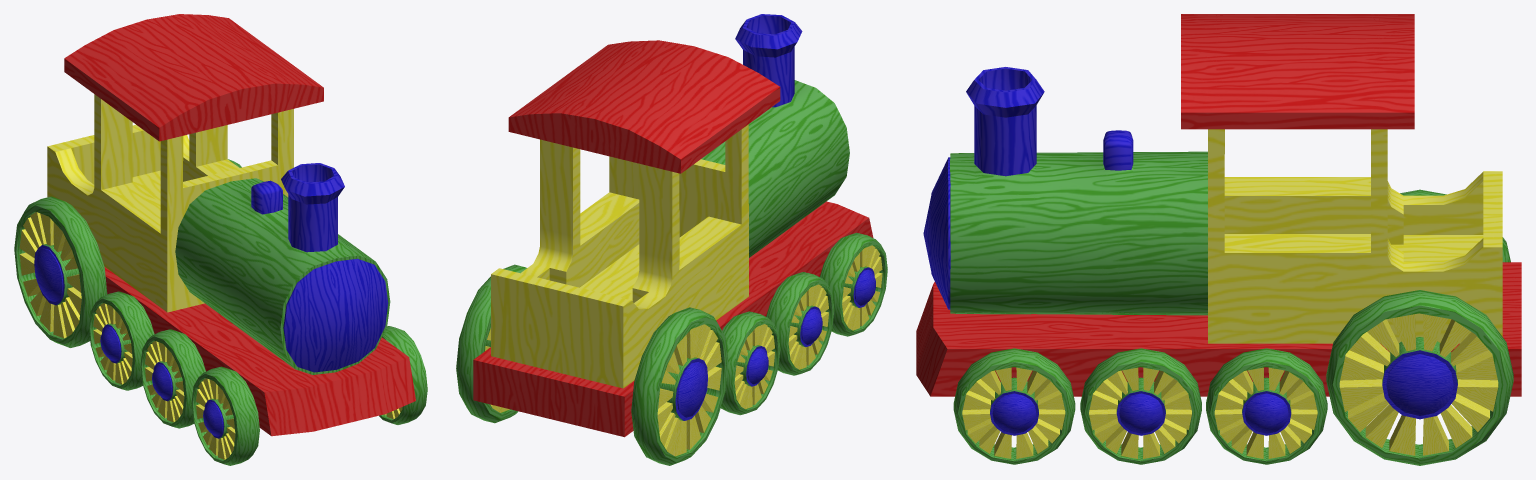
Rendered from Toy train.FBX.
3 renders of one model, left to right at view 1: azimuth 30°, elevation 25°; view 2: azimuth 150°, elevation 25°; view 3: azimuth 270°, elevation 25°, orthographic. The views are drawn at different scales.
Visible parts, largest first — view 1: Box001, Cylinder003, Cylinder017, Cylinder016, Cylinder015, Cylinder019; view 2: Box001, Cylinder003, Cylinder015, Cylinder017, Cylinder016, Cylinder014; view 3: Box001, Cylinder014, Cylinder019, Cylinder018, Cylinder020.
Part boxes in pixels (bbox=[...]): Box001: bbox=[47, 14, 415, 436]; Cylinder003: bbox=[14, 196, 107, 347]; Cylinder017: bbox=[191, 366, 259, 465]; Cylinder016: bbox=[89, 291, 154, 390]; Cylinder015: bbox=[140, 329, 205, 428]; Cylinder019: bbox=[379, 326, 427, 424]; Box001: bbox=[473, 14, 873, 437]; Cylinder003: bbox=[631, 307, 728, 465]; Cylinder015: bbox=[766, 272, 834, 375]; Cylinder017: bbox=[820, 232, 887, 336]; Cylinder016: bbox=[720, 311, 780, 415]; Cylinder014: bbox=[456, 264, 526, 423]; Box001: bbox=[916, 14, 1521, 396]; Cylinder014: bbox=[1326, 290, 1513, 465]; Cylinder019: bbox=[953, 348, 1075, 464]; Cylinder018: bbox=[1080, 348, 1201, 464]; Cylinder020: bbox=[1206, 348, 1327, 464].
Bounding box in the file's own units: 55.89 × 78.8 × 116.
2 materials, 2 textured.
